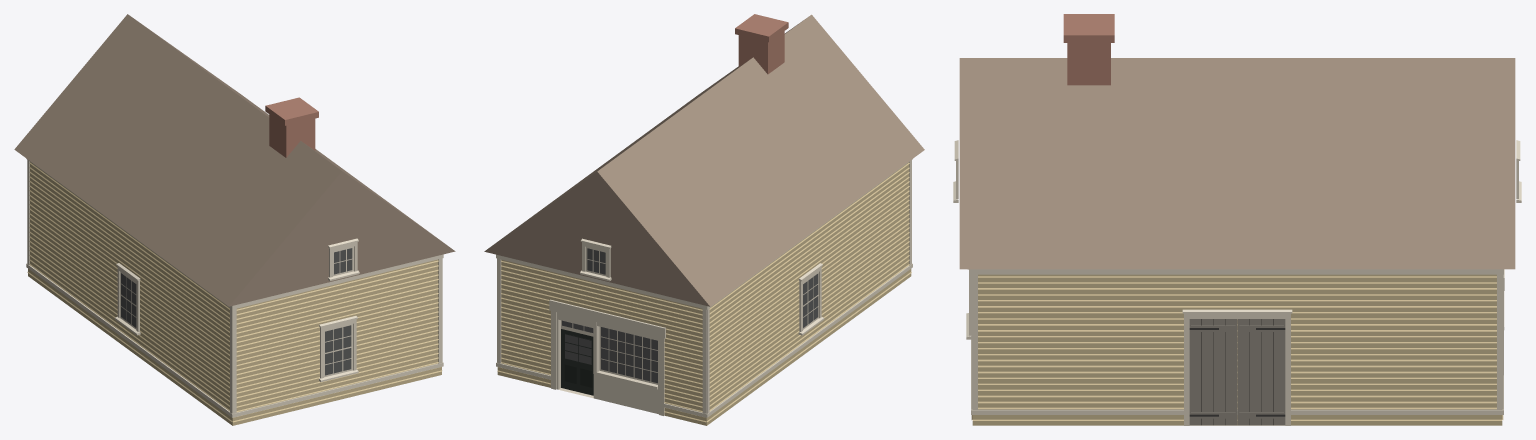
The model's file is recon_1835_core_c2_057__inferred_1835.glb.
The picture shows the model from 3 angles, left to right: view 1: azimuth 30°, elevation 25°; view 2: azimuth 150°, elevation 25°; view 3: azimuth 270°, elevation 25°; orthographic projection. The views are drawn at different scales.
Parts seen in each view (by area): view 1: recon_1835_core_c2_057__inferred_1835; view 2: recon_1835_core_c2_057__inferred_1835; view 3: recon_1835_core_c2_057__inferred_1835.
Boxes of the visible parts, bbox=[...] form: recon_1835_core_c2_057__inferred_1835: bbox=[14, 14, 455, 425]; recon_1835_core_c2_057__inferred_1835: bbox=[484, 14, 924, 425]; recon_1835_core_c2_057__inferred_1835: bbox=[953, 14, 1521, 425].
Size of the model in its own units: 6.53 by 7.12 by 10.97.
